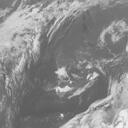cyclone: (54, 55, 104, 99)
